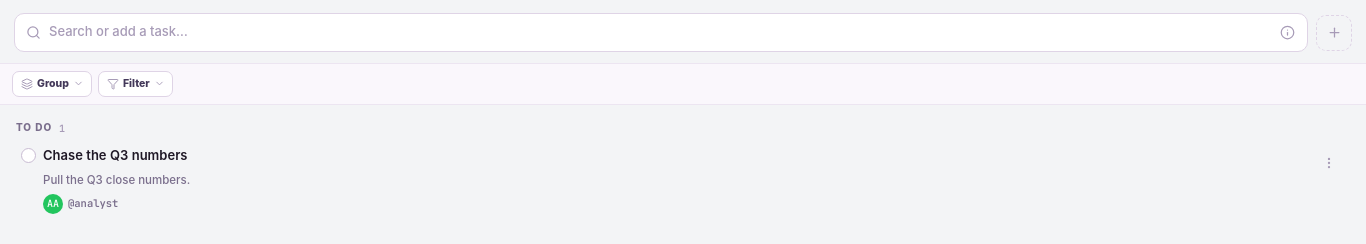
it: the To-do rail search box › clears the box from the × without capturing anything
Step 1. Type "half a thought" into the field with placeholder "Search or add a task…" → [659, 33], box top-left (49, 23), bottom-right (1269, 42)
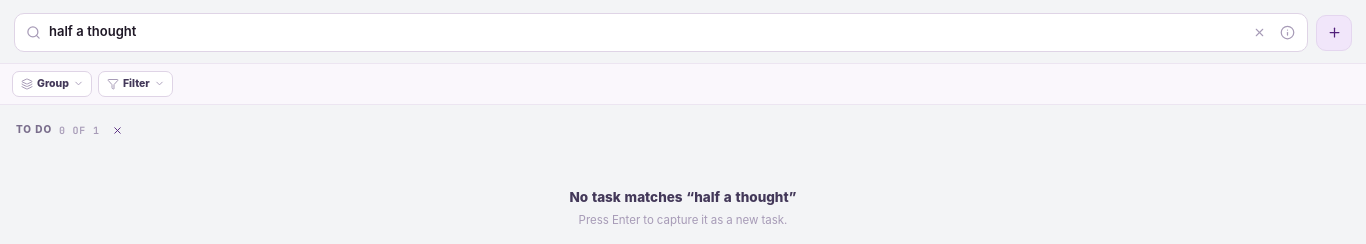
Step 2. Click the button titled "Clear" → [1260, 32], box top-left (1250, 23), bottom-right (1269, 42)
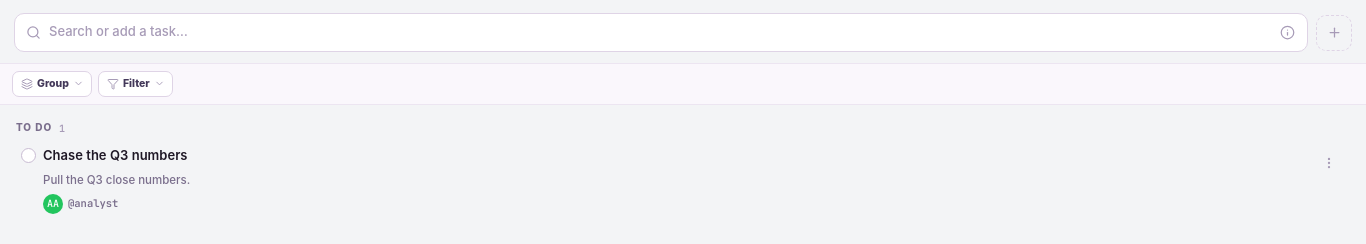
Result: the field with placeholder "Search or add a task…" is empty at top-left (49, 23), bottom-right (1269, 42)
